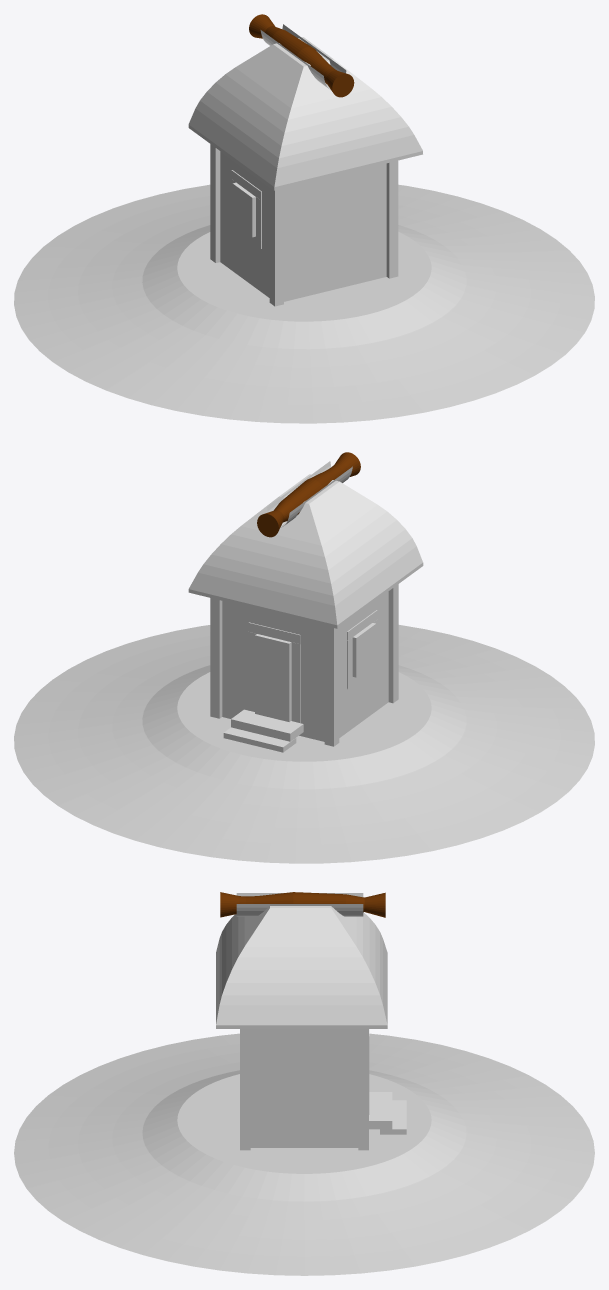
Rendered from house.fbx.
3 views of the same model, one above another, from view 1: azimuth 30°, elevation 25°; view 2: azimuth 150°, elevation 25°; view 3: azimuth 270°, elevation 25° (orthographic).
Parts seen in each view (by area): view 1: Circle, Cube.016, Cube, Cylinder.001, Cube.004, Cube.001, Cube.003, Cube.011, Cylinder; view 2: Circle, Cube.016, Cube, Cube.005, Cylinder.001, Cube.003, Cube.002, Cube.009, Cube.004, Cube.011, Cube.010, Cube.008 (+2 smaller); view 3: Circle, Cube.016, Cube, Cylinder.001, Cube.001, Cube.002, Cylinder, Cube.009, Cube.010.
Boxes of the visible parts, x1,y1,x2,y2 form: Circle: (14,184,594,423); Cube.016: (188,37,422,190); Cube: (220,151,386,301); Cylinder.001: (249,14,354,97); Cube.004: (269,187,283,306); Cube.001: (386,160,398,278); Cube.003: (210,144,220,262); Cube.011: (232,182,255,237); Cylinder: (260,24,346,89); Circle: (14,625,594,863); Cube.016: (188,474,423,628); Cube: (222,591,388,741); Cube.005: (255,634,291,721); Cylinder.001: (257,452,360,537); Cube.003: (324,626,339,746); Cube.002: (210,598,222,718); Cube.009: (231,709,303,741); Cube.004: (388,584,398,703); Cube.011: (352,623,376,677); Cube.010: (223,727,296,752); Cube.008: (291,642,300,722); Circle: (14,1033,594,1275); Cube.016: (216,906,387,1028); Cube: (250,1029,358,1147); Cylinder.001: (220,892,385,917); Cube.001: (240,1029,250,1150); Cube.002: (358,1029,368,1150); Cylinder: (236,893,363,916); Cube.009: (369,1092,392,1129); Cube.010: (380,1100,406,1134).
Size of the model in its own units: 2200 by 1079 by 2200.
